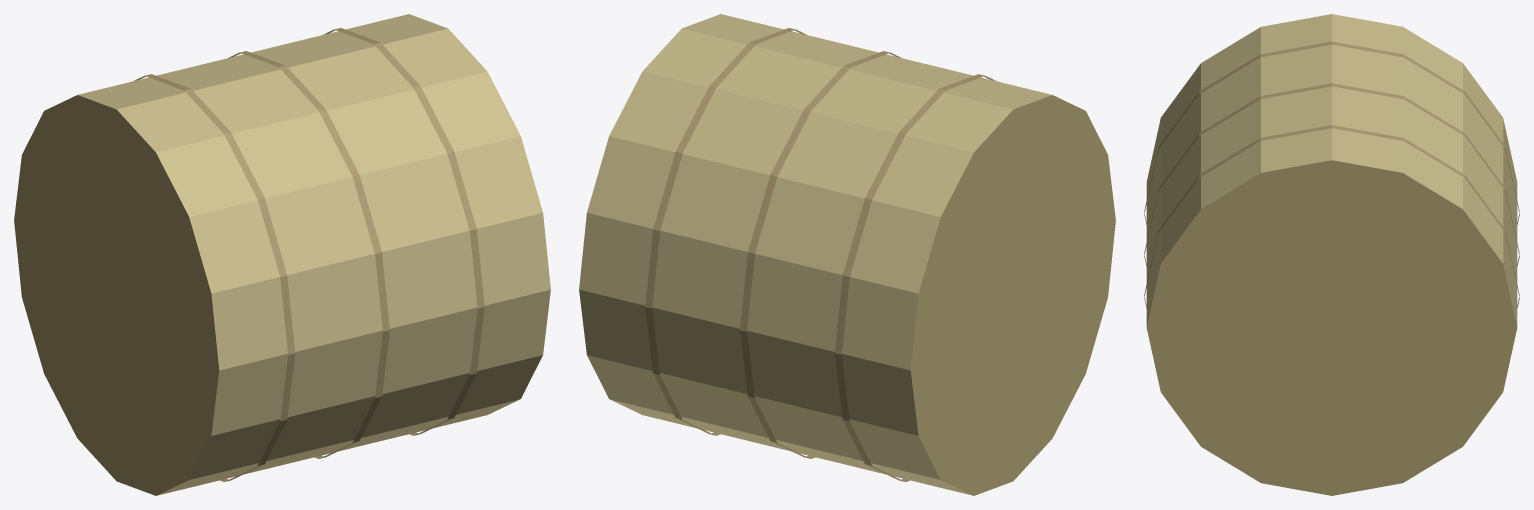
File: hay_bale.glb
The picture shows the model from 3 angles, left to right: view 1: azimuth 30°, elevation 25°; view 2: azimuth 150°, elevation 25°; view 3: azimuth 270°, elevation 25°; orthographic projection. The views are drawn at different scales.
Parts seen in each view (by area): view 1: hay_bale; view 2: hay_bale; view 3: hay_bale.
Boxes of the visible parts, x1,y1,x2,y2 form: hay_bale: (14, 14, 550, 495); hay_bale: (579, 14, 1115, 495); hay_bale: (1144, 14, 1519, 495).
Size of the model in its own units: 1.4 by 1.52 by 1.52.
